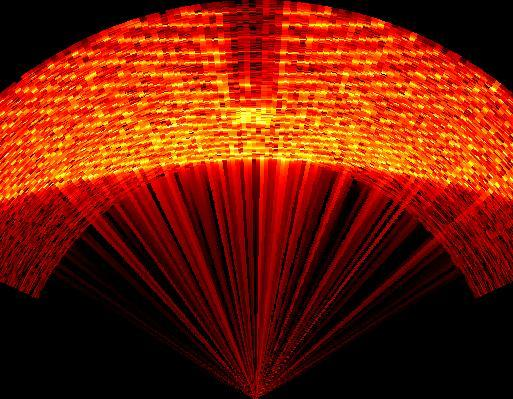box_crate: (210, 2, 282, 106)
